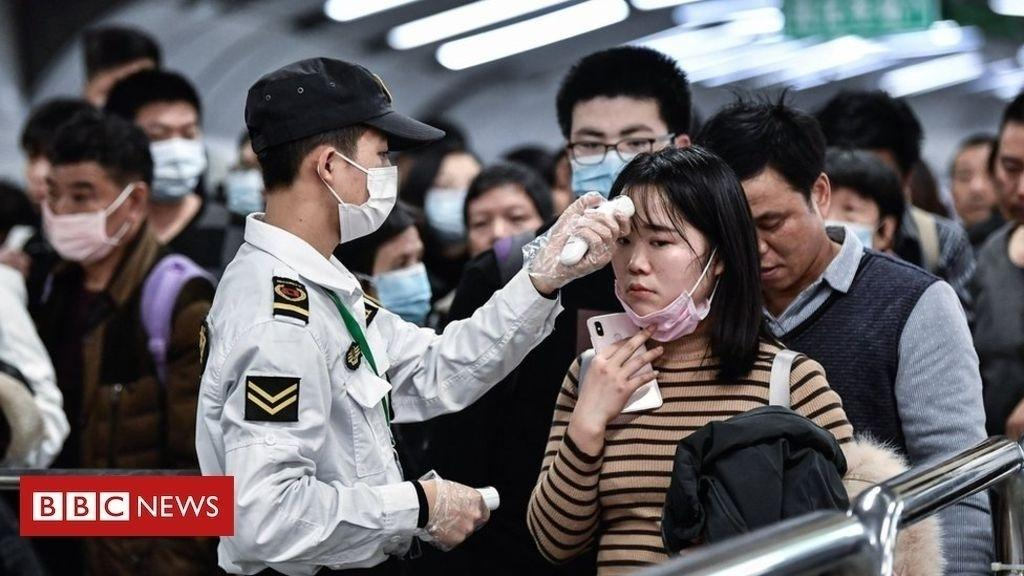hairnet: (613, 243, 704, 337)
mask: (40, 181, 137, 263), (316, 149, 399, 244), (353, 261, 433, 326), (565, 145, 635, 201), (147, 135, 207, 200), (423, 185, 469, 240), (223, 167, 265, 216)
